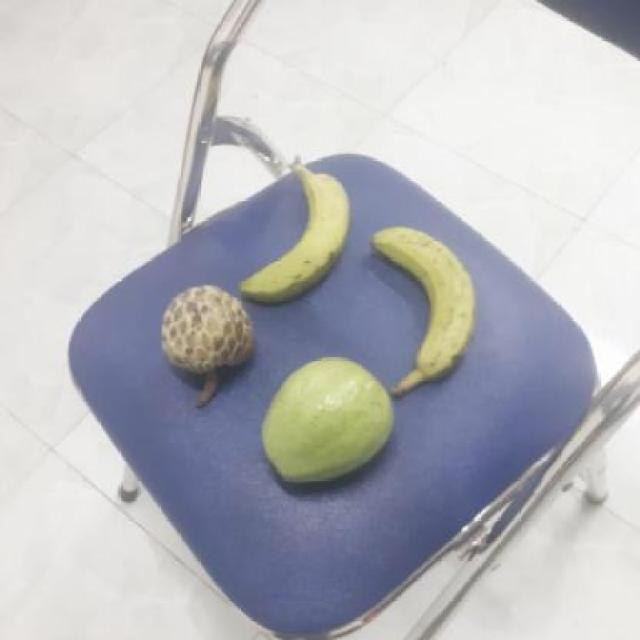banana: (367, 227, 485, 382), (242, 166, 358, 300)
guava: (261, 358, 399, 485)
sugar apple: (159, 285, 259, 400)
